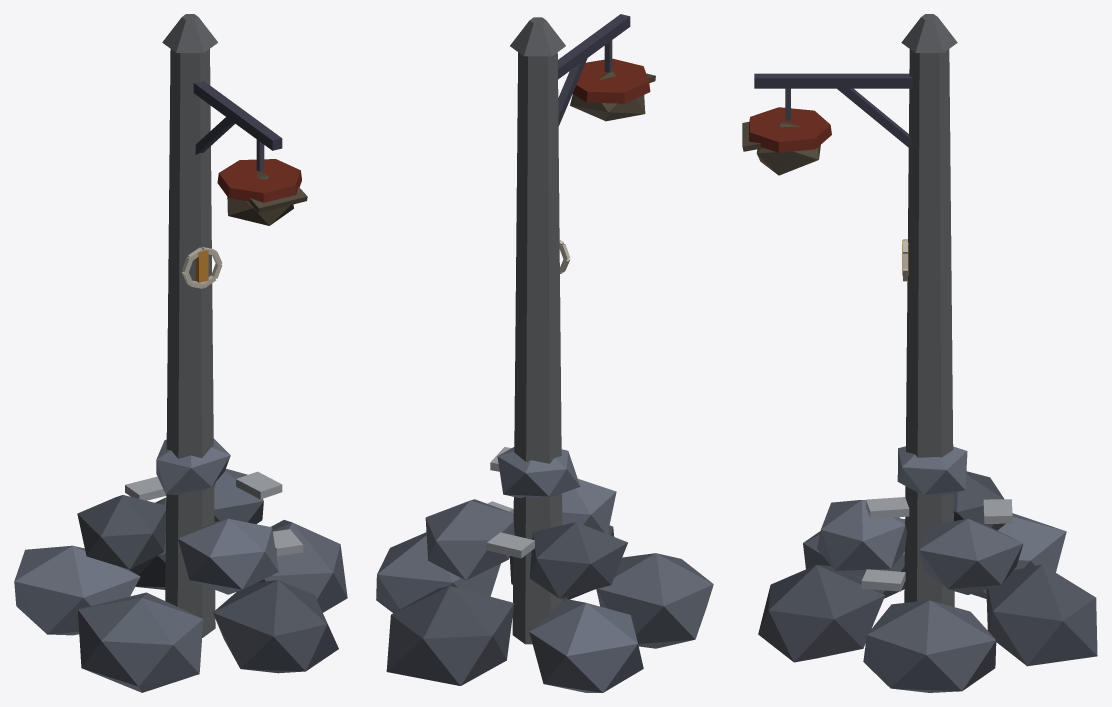
File: waymark_cap.glb
The picture shows the model from 3 angles, left to right: view 1: azimuth 30°, elevation 25°; view 2: azimuth 150°, elevation 25°; view 3: azimuth 270°, elevation 25°; orthographic projection.
Parts seen in each view (by area): view 1: silverfog_d50, slate_d5, slate_d15, slate_d30, coal_d40, ink_l15, silverfog_d20, driftwood_d60, silverfog_d55, bone_d20; view 2: silverfog_d50, slate_d15, slate_d30, slate_d5, coal_d40, ink_l15, silverfog_d55, driftwood_d60, silverfog_d20; view 3: silverfog_d50, slate_d30, slate_d15, slate_d5, ink_l15, coal_d40, silverfog_d20, driftwood_d60, silverfog_d55.
Boxes of the visible parts, <box> form: silverfog_d50: <box>165,49,215,637</box>; slate_d5: <box>14,438,278,635</box>; slate_d15: <box>78,468,347,692</box>; slate_d30: <box>77,495,338,673</box>; coal_d40: <box>217,159,301,202</box>; ink_l15: <box>193,81,282,154</box>; silverfog_d20: <box>125,471,303,556</box>; driftwood_d60: <box>227,171,307,225</box>; silverfog_d55: <box>162,14,217,52</box>; bone_d20: <box>182,247,222,288</box>; silverfog_d50: <box>512,52,562,644</box>; slate_d15: <box>376,499,713,648</box>; slate_d30: <box>386,522,627,685</box>; slate_d5: <box>497,447,643,692</box>; coal_d40: <box>572,58,650,103</box>; ink_l15: <box>558,14,630,126</box>; silverfog_d55: <box>510,17,565,56</box>; driftwood_d60: <box>570,71,655,121</box>; silverfog_d20: <box>486,447,534,558</box>; silverfog_d50: <box>904,49,954,606</box>; slate_d30: <box>758,471,1097,666</box>; slate_d15: <box>803,518,1023,692</box>; slate_d5: <box>817,446,1066,598</box>; ink_l15: <box>754,73,912,149</box>; coal_d40: <box>749,107,831,152</box>; silverfog_d20: <box>861,497,1012,591</box>; driftwood_d60: <box>742,122,820,175</box>; silverfog_d55: <box>901,14,957,52</box>.
Size of the model in its own units: 1.18 by 2.47 by 1.26.
